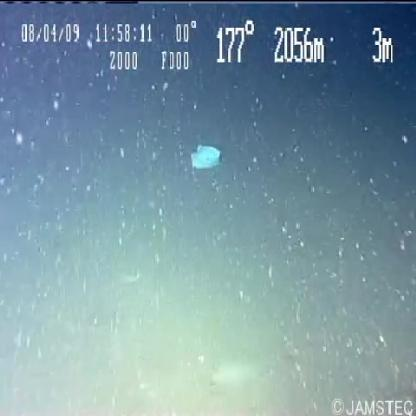Rác: (179, 134, 234, 172)
